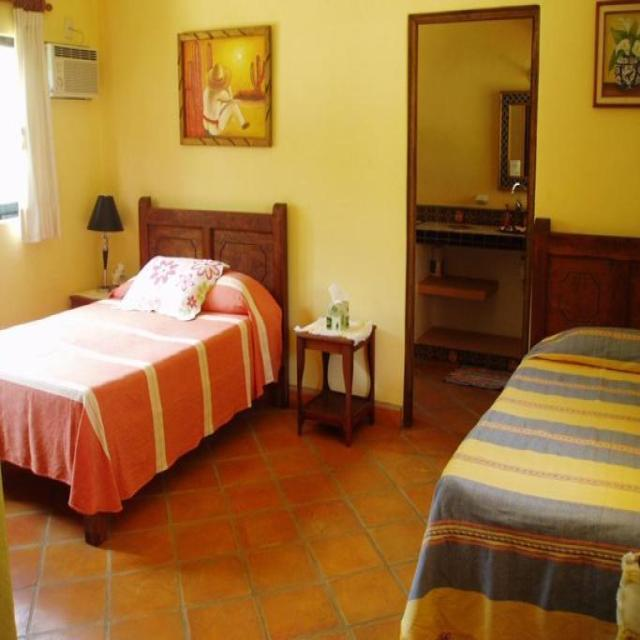bed: (0, 194, 289, 546)
curtains: (11, 1, 60, 244)
door: (402, 4, 540, 428)
pillows: (119, 254, 230, 321)
plants: (607, 16, 639, 89)
rugs: (441, 364, 512, 390)
table: (293, 316, 377, 446)
table-lamp: (86, 192, 124, 292)
window: (0, 34, 29, 221)
